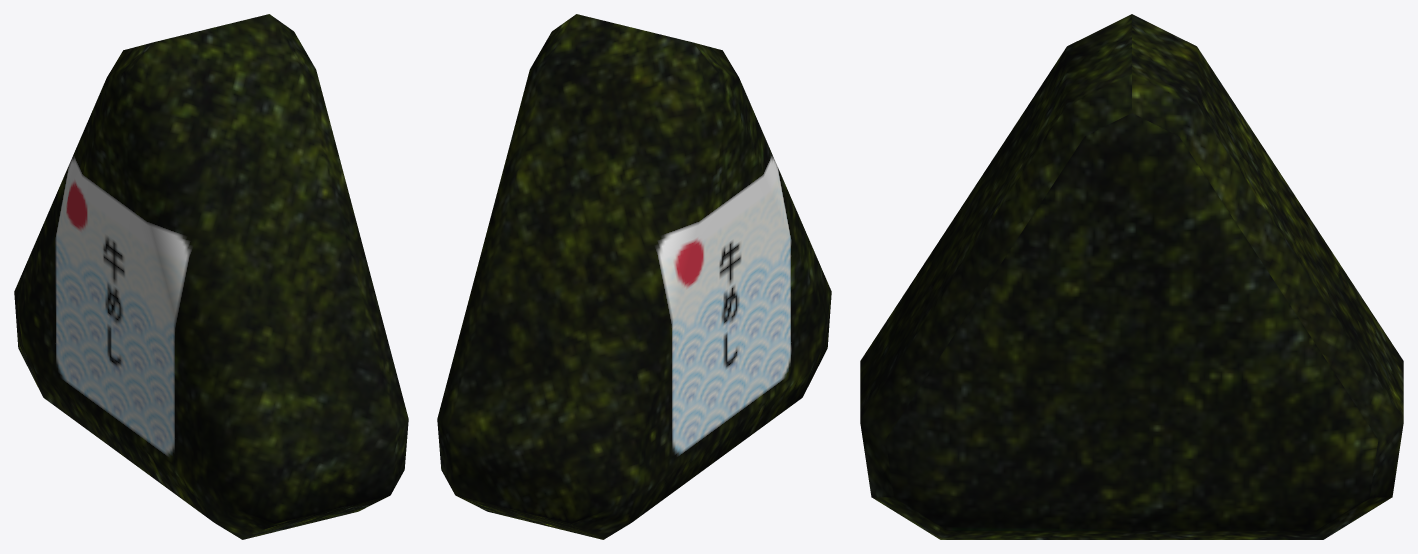
Rendered from SM_Onigiri.fbx.
The picture shows the model from 3 angles, left to right: view 1: azimuth 30°, elevation 25°; view 2: azimuth 150°, elevation 25°; view 3: azimuth 270°, elevation 25°; orthographic projection. The views are drawn at different scales.
Visible parts, largest first — view 1: SM_Onigiri_LOD0; view 2: SM_Onigiri_LOD0; view 3: SM_Onigiri_LOD0.
Part boxes in pixels (x1,y1,x2,y2): SM_Onigiri_LOD0: (14,14,408,539); SM_Onigiri_LOD0: (437,14,831,539); SM_Onigiri_LOD0: (860,14,1403,539).
Bounding box in the file's own units: 3.56 × 8.07 × 7.62.
1 material, 1 textured.
